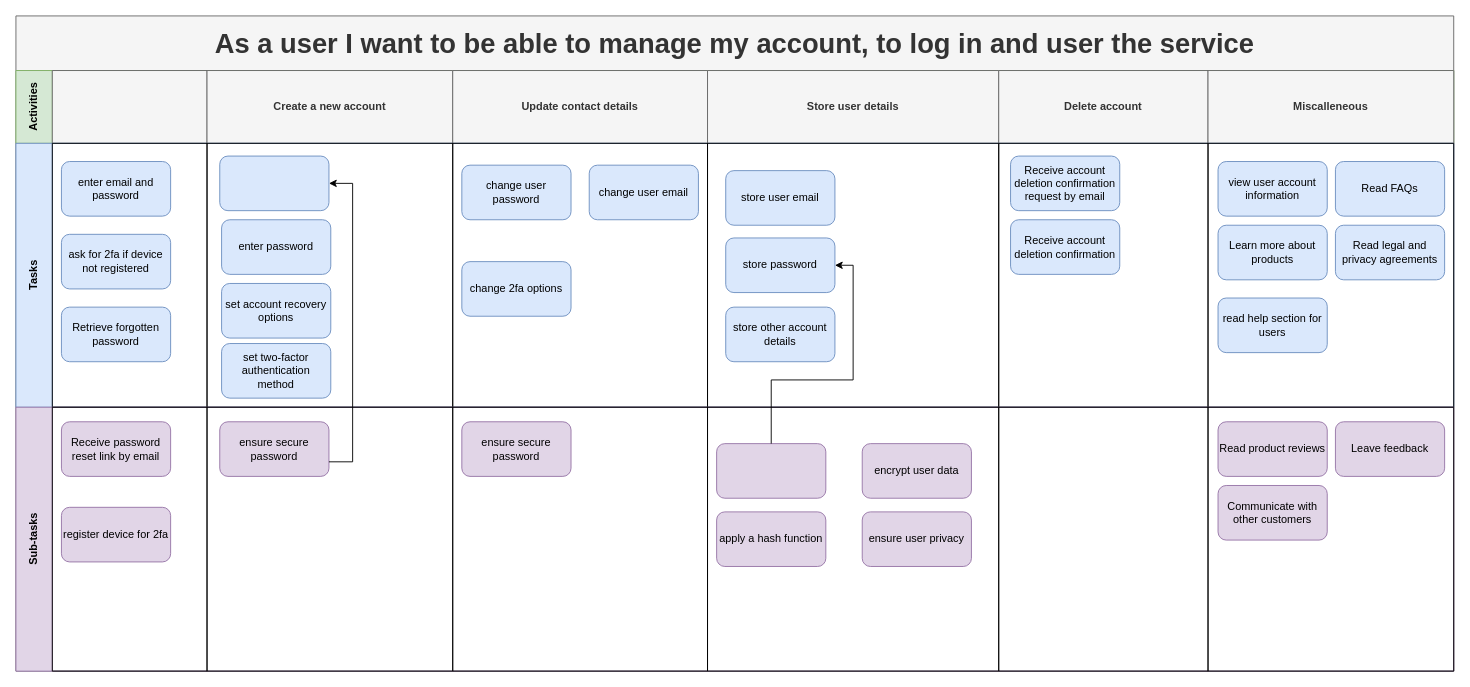
This 1470x687 diagram has some shape labels left out. Here are the shapes that lost their labels. From the top down, the box of each, then its label:
(51, 70, 207, 143): Log in
(219, 155, 329, 211): enter unique username (email)
(716, 443, 826, 498): store a hashed password
